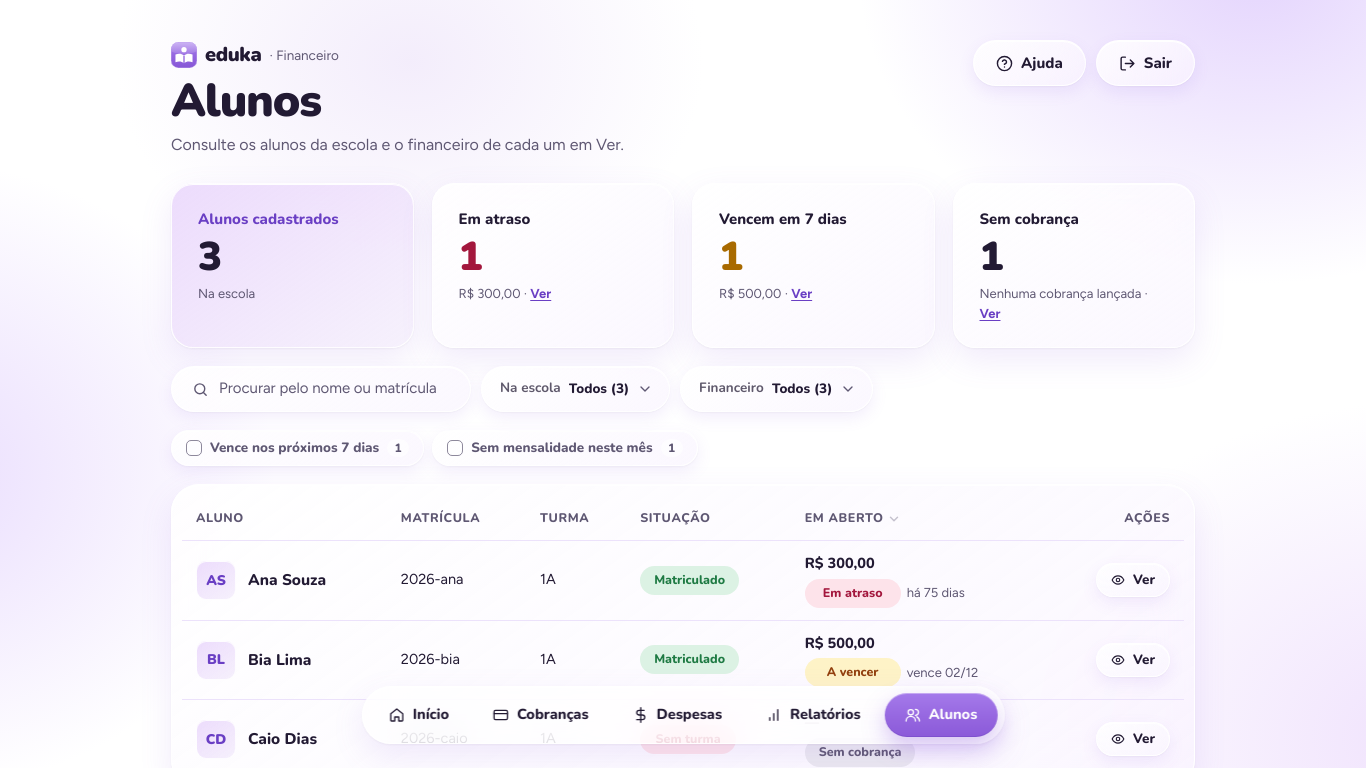
it: Alunos: o financeiro de cada aluno › o financeiro vê a coluna Em aberto, os filtros financeiros e os cards financeiros
Expected: the text "R$ 300,00" is shown, [805,553,875,573]
Expected: the text "Em atraso" next to "há 75 dias" is shown, [823,584,883,601]
Click the dropdown named "Filtrar pela situação financeira" at x=777, y=389, box [680,366,873,412]
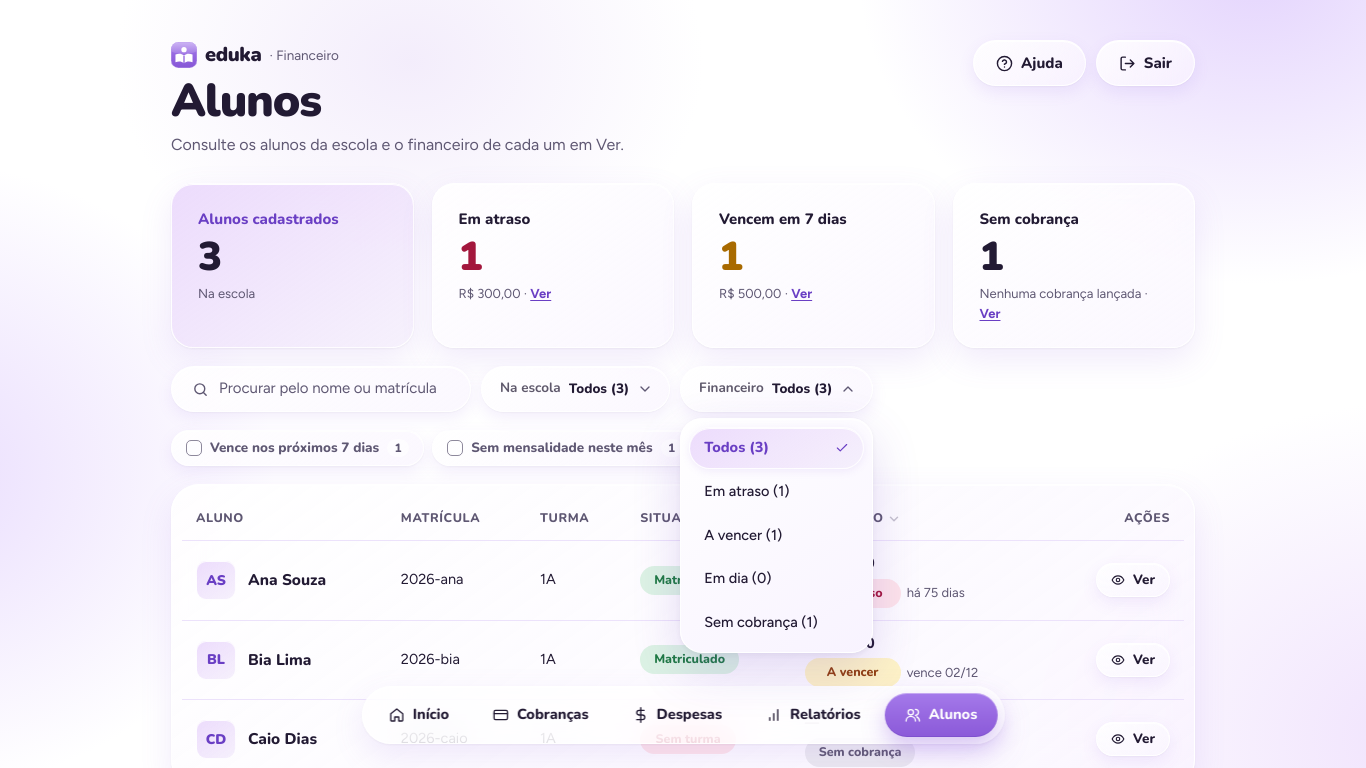
Expected: the option "Em atraso (1)" is shown, [704,482,790,500]
